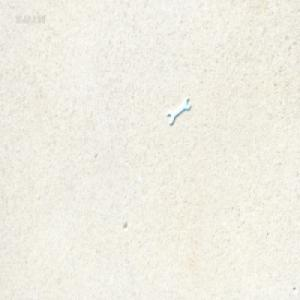Wrench: (165, 95, 188, 124)
